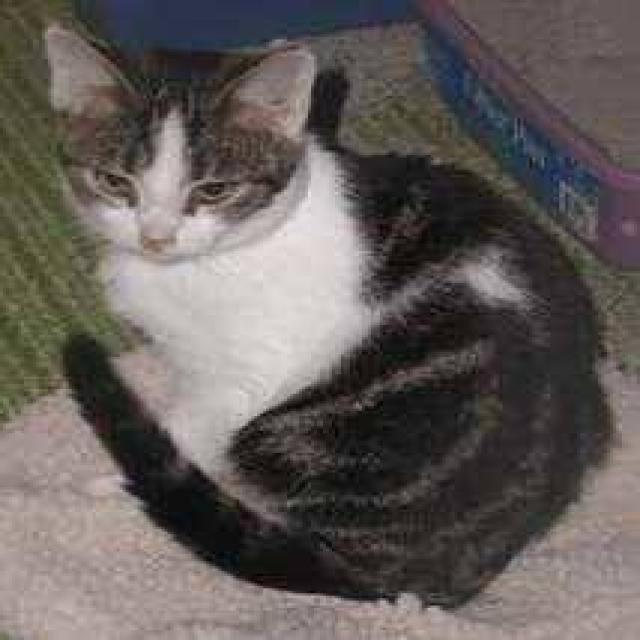cat: (39, 17, 622, 608)
